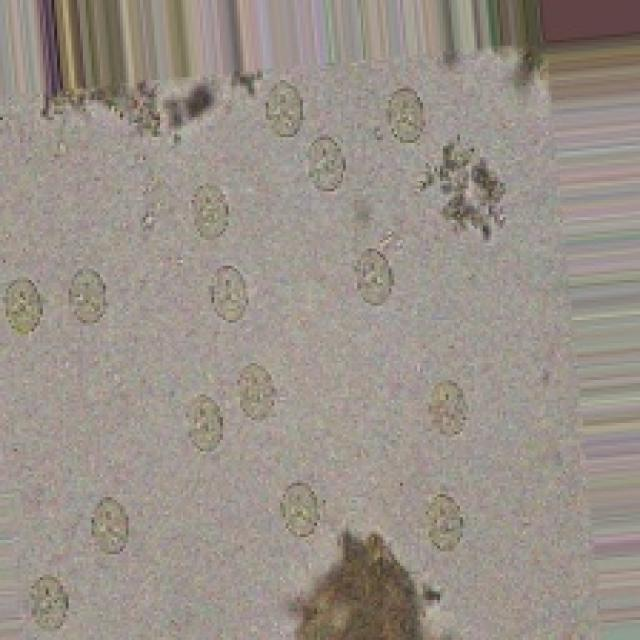Amoeba: (0, 49, 543, 640)
